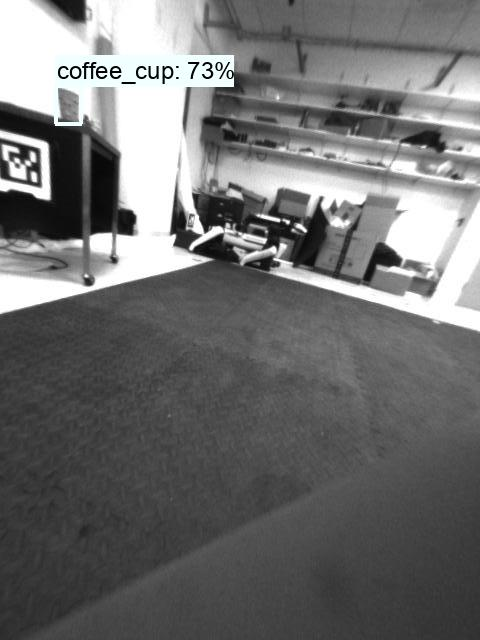coffee_cup: (54, 86, 82, 122)
